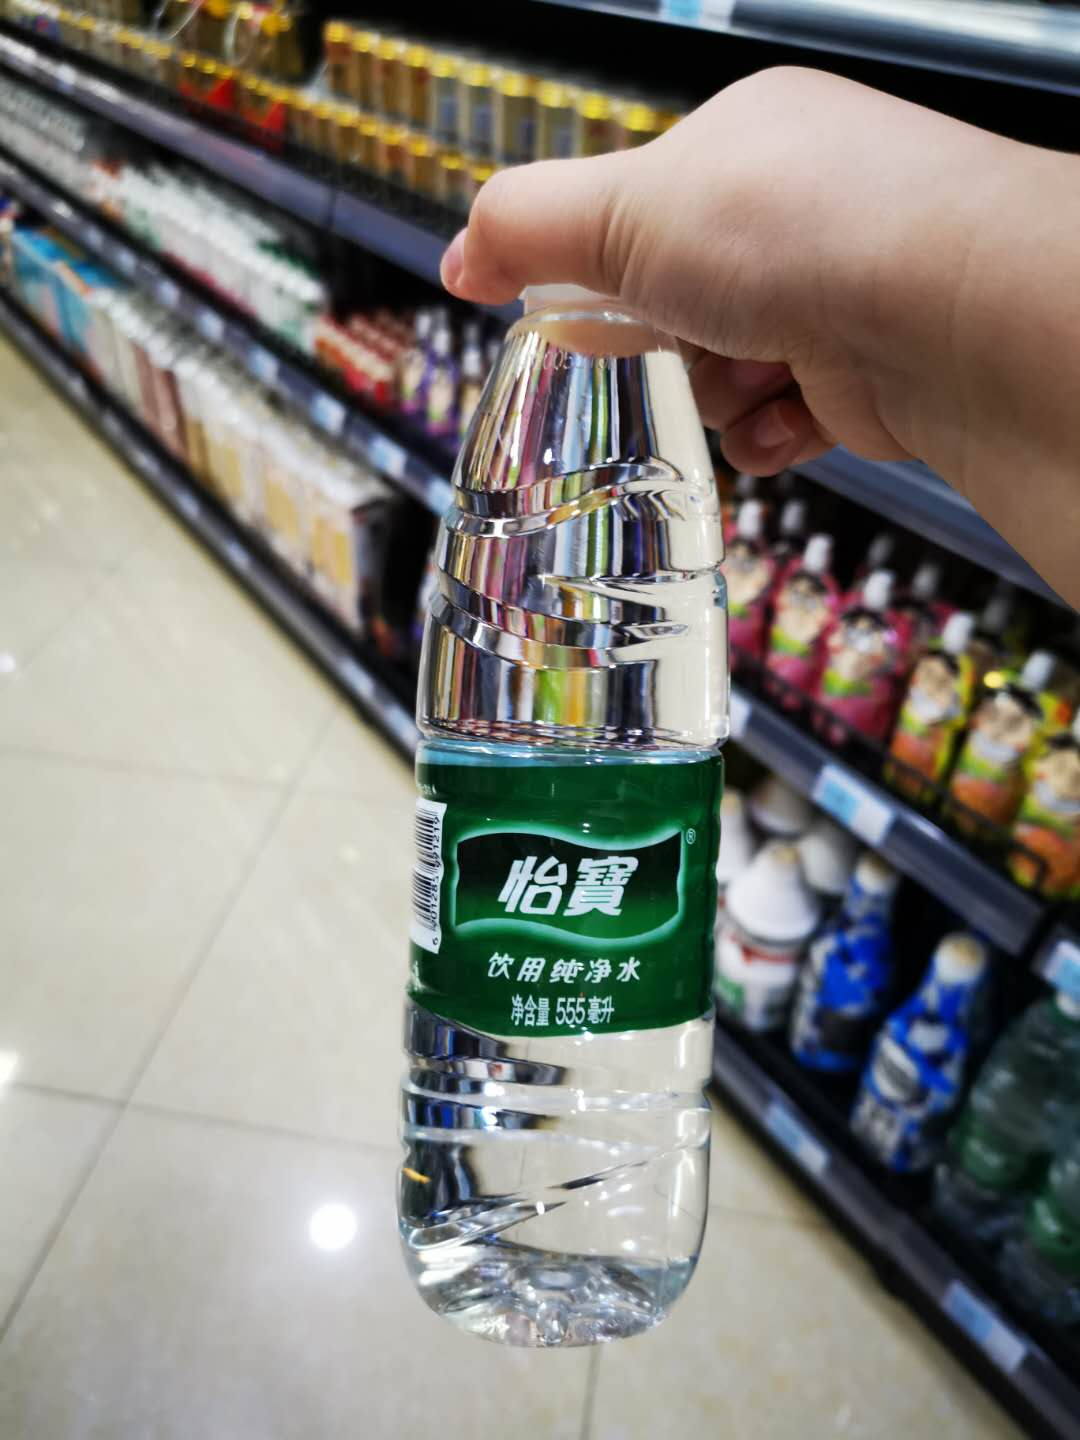怡宝: (357, 187, 763, 1372)
